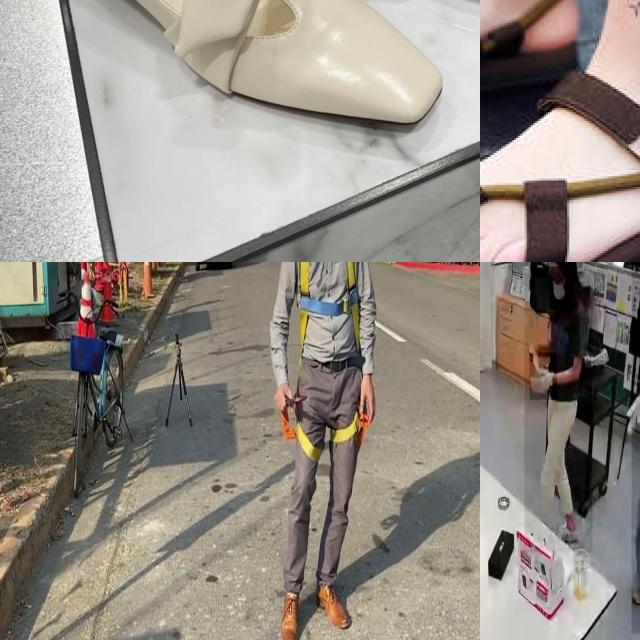Harness: (300, 262, 360, 350), (283, 415, 363, 462)
Sandals: (25, 0, 468, 135), (480, 64, 640, 262), (480, 0, 578, 139)
face_mask: (550, 267, 568, 309)
hand_glove: (529, 352, 557, 400)
person: (524, 262, 593, 553)
shoes: (628, 573, 640, 611)
